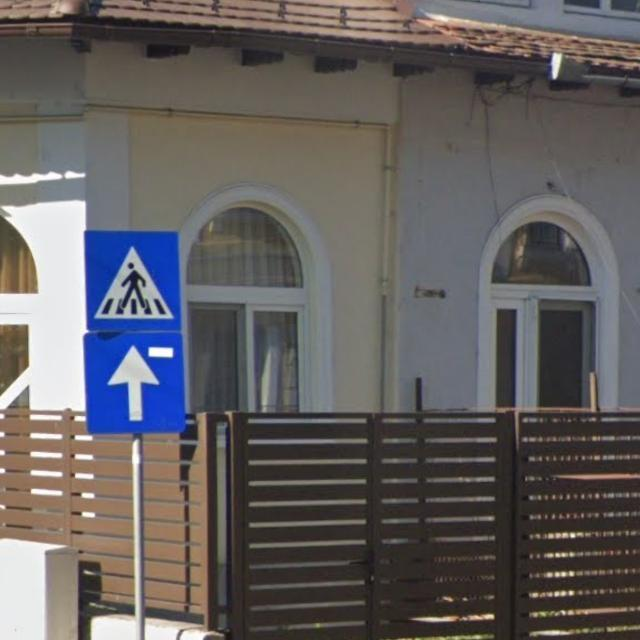info_crosswalk: (81, 228, 184, 331)
